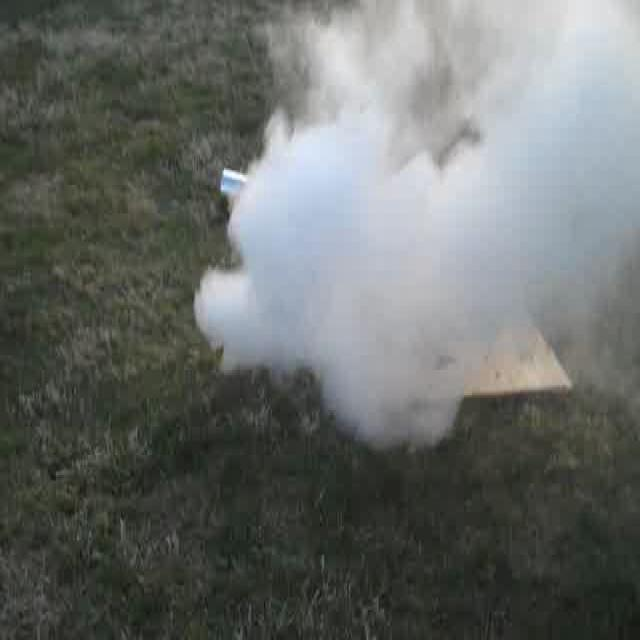Smoke: (232, 26, 638, 412)
